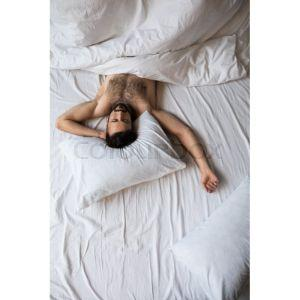sleep: (57, 69, 219, 194), (107, 104, 133, 133)
